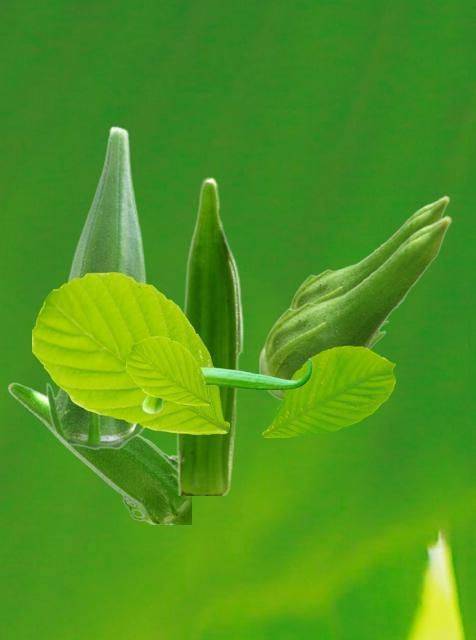okra: (258, 215, 451, 400), (45, 125, 146, 449), (7, 382, 190, 523), (176, 176, 243, 494), (289, 195, 449, 325), (142, 358, 311, 412)
